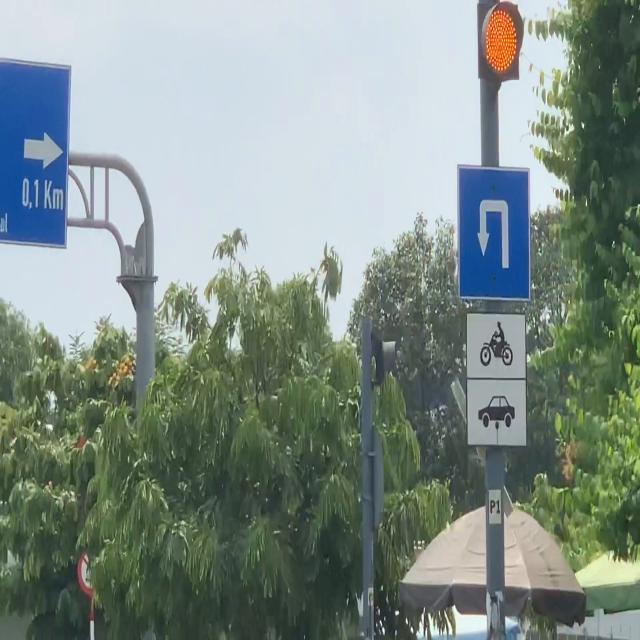Hieu lenh: (456, 162, 534, 303)
